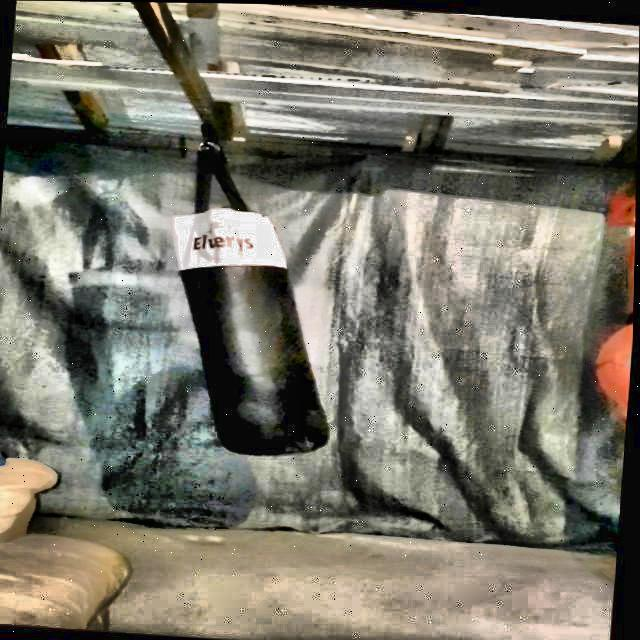boxing-bag: (161, 118, 362, 458)
